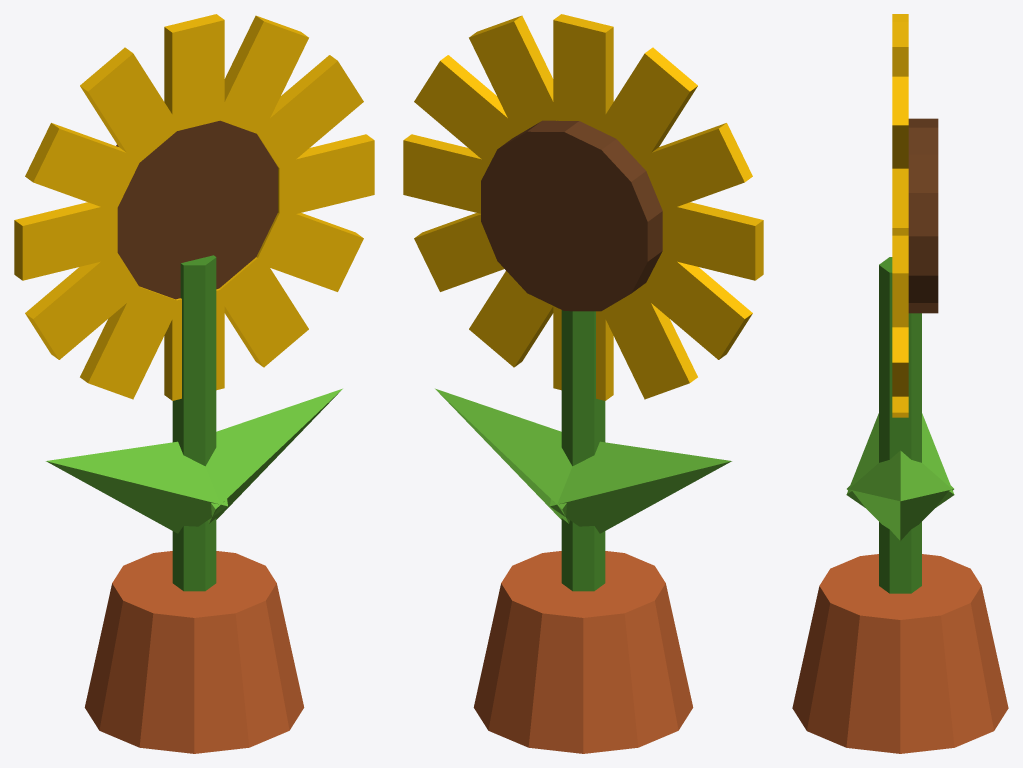
File: acc_flower.glb
3 views of the same model, side by side, from view 1: azimuth 30°, elevation 25°; view 2: azimuth 150°, elevation 25°; view 3: azimuth 270°, elevation 25° (orthographic).
Visible parts, largest first — view 1: AccFlower; view 2: AccFlower; view 3: AccFlower.
Boxes of the visible parts, x1,y1,x2,y2 form: AccFlower: (14,14,374,753); AccFlower: (403,14,763,753); AccFlower: (792,14,1008,753).
Size of the model in its own units: 0.74 by 1.38 by 0.4.
